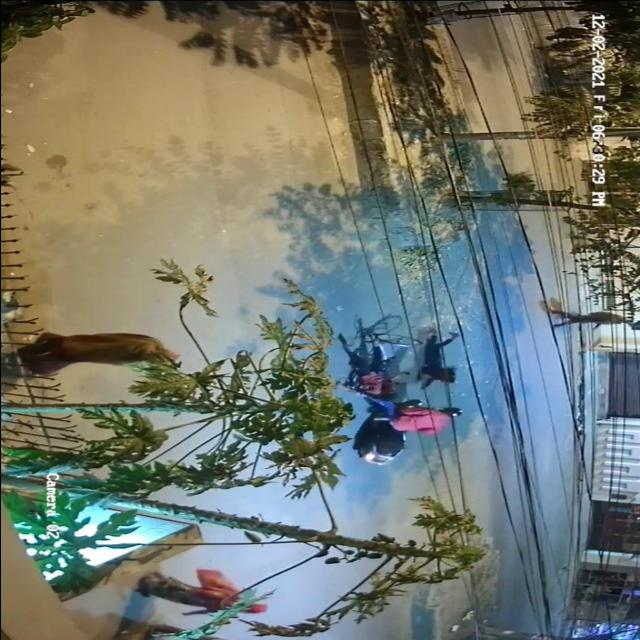accident: (337, 317, 467, 469)
